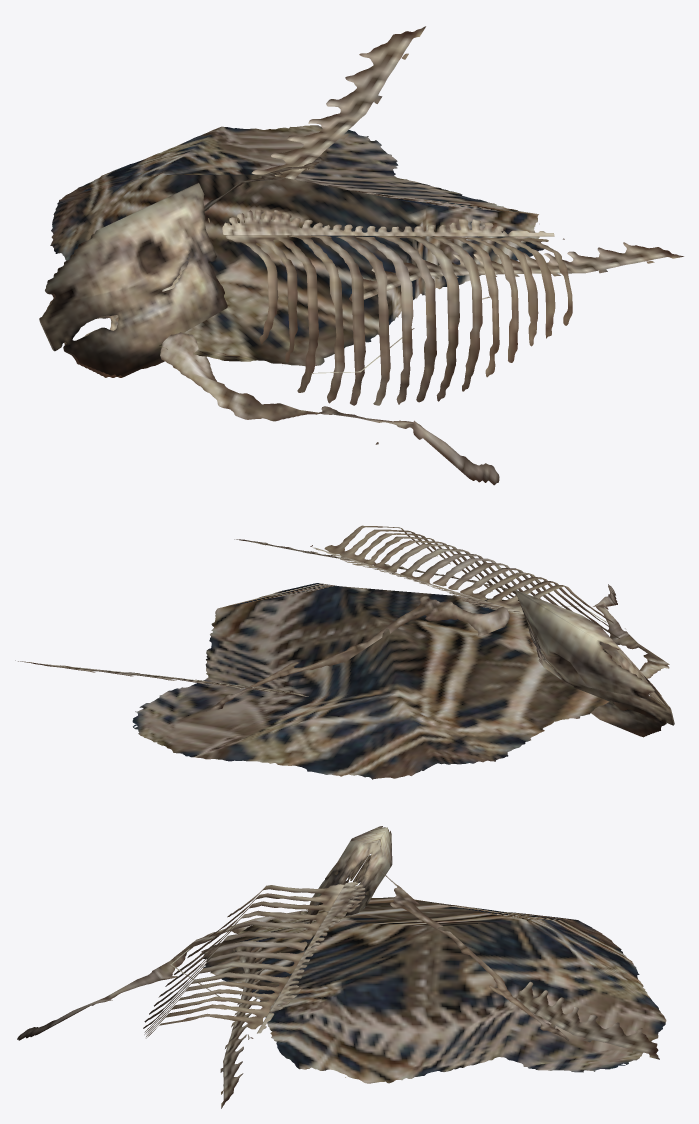
The model's file is gutoudui_fd_61.FBX.
The picture shows the model from 3 angles, top to bottom: view 1: azimuth 30°, elevation 25°; view 2: azimuth 150°, elevation 25°; view 3: azimuth 270°, elevation 25°; orthographic projection. The views are drawn at different scales.
Visible parts, largest first — view 1: gutoudui_fd_61; view 2: gutoudui_fd_61; view 3: gutoudui_fd_61.
Boxes of the visible parts, bbox=[...] form: gutoudui_fd_61: bbox=[39, 26, 683, 485]; gutoudui_fd_61: bbox=[15, 525, 674, 779]; gutoudui_fd_61: bbox=[17, 826, 666, 1108].
Size of what is drawn, in the model's own units: 167 by 51.69 by 194.
